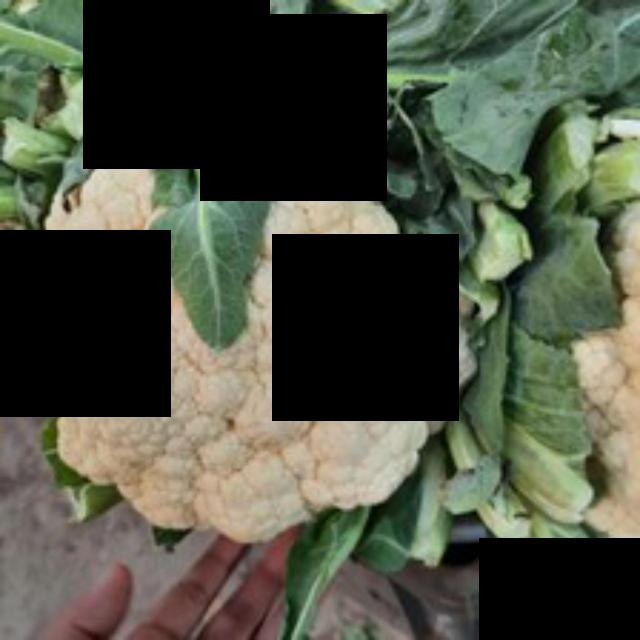cauliflower: (21, 109, 482, 529)
